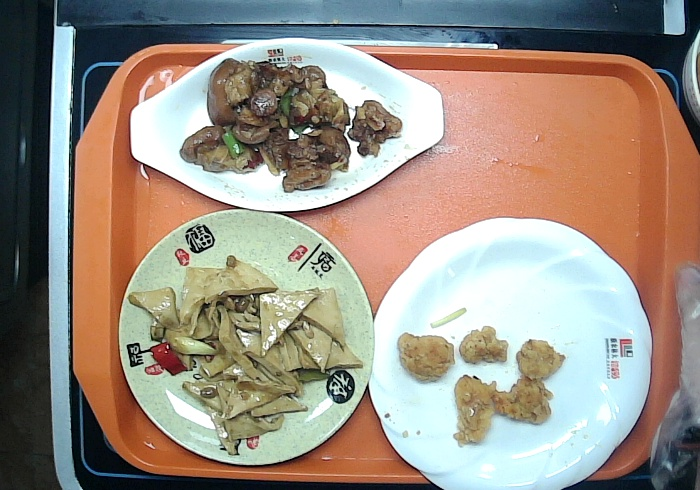NLDX-Bai_Zhe_Yuan_Pan: (358, 215, 659, 490)
NLDX-Fu_Zi_Yuan_Pan: (108, 195, 378, 473)
NLDX-Yu_Pan: (127, 32, 447, 213)
